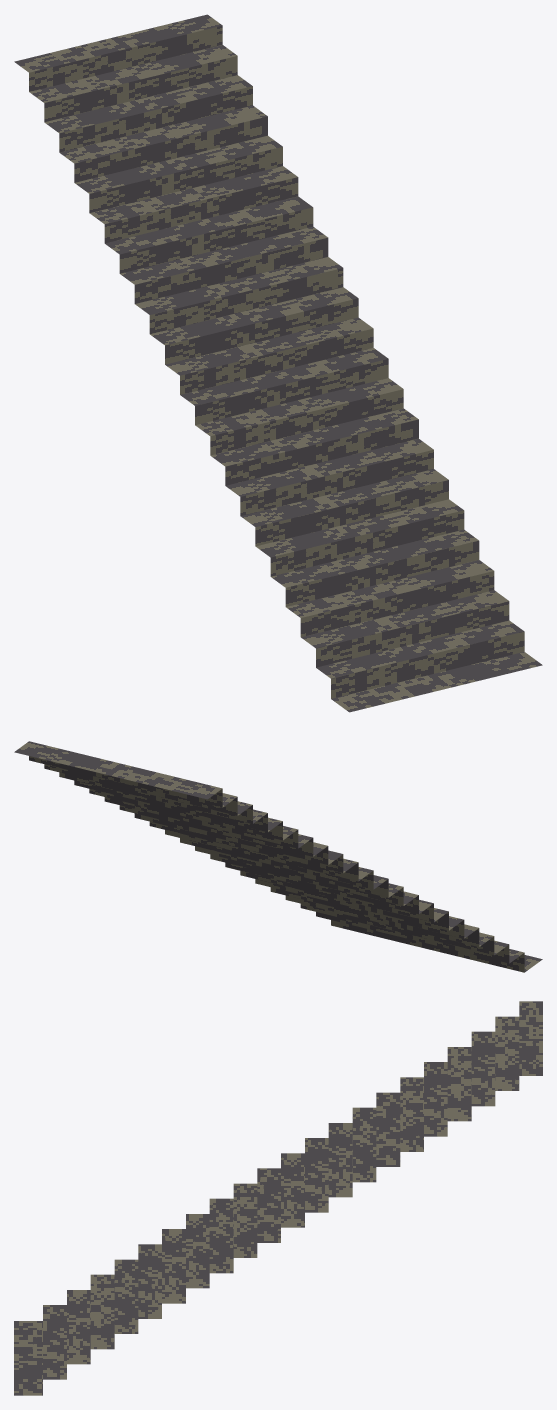
Rendered from stairs.glb.
3 renders of one model, top to bottom at view 1: azimuth 30°, elevation 25°; view 2: azimuth 150°, elevation 25°; view 3: azimuth 270°, elevation 25°, orthographic. The views are drawn at different scales.
Parts seen in each view (by area): view 1: Stairs; view 2: Stairs; view 3: Stairs.
Boxes of the visible parts, x1,y1,x2,y2 form: Stairs: (14, 14, 542, 712); Stairs: (14, 741, 542, 972); Stairs: (14, 1001, 542, 1395).
Size of the model in its own units: 2 by 4 by 6.
1 material, 1 textured.
